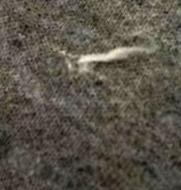snag: (72, 34, 165, 77)
